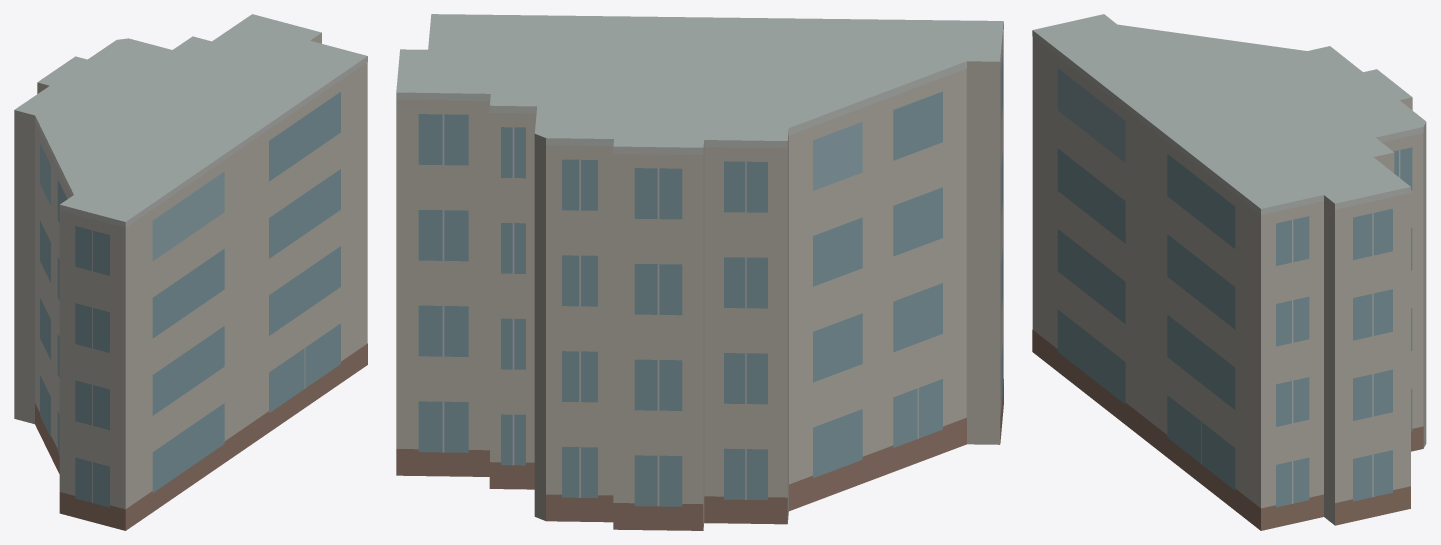
File: survey-upis-32790506.glb
3 renders of one model, left to right at view 1: azimuth 30°, elevation 25°; view 2: azimuth 150°, elevation 25°; view 3: azimuth 270°, elevation 25°, orthographic. The views are drawn at different scales.
Visible parts, largest first — view 1: survey-upis-32790506.tmp; view 2: survey-upis-32790506.tmp; view 3: survey-upis-32790506.tmp.
Part boxes in pixels (<box>): survey-upis-32790506.tmp: <box>14,14,367,530</box>; survey-upis-32790506.tmp: <box>396,14,1003,530</box>; survey-upis-32790506.tmp: <box>1032,14,1426,530</box>.
Bounding box in the file's own units: 16.77 × 12.9 × 14.32.
